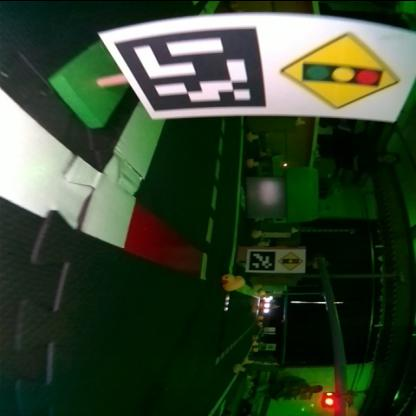Duckie: (224, 272, 246, 290), (252, 228, 264, 236), (249, 158, 259, 166), (249, 132, 258, 140), (234, 362, 245, 368), (254, 304, 262, 309), (252, 335, 259, 339)
Duckiebot: (261, 297, 273, 312)
QR code: (114, 24, 266, 109), (250, 247, 272, 270)
Signal sign: (276, 28, 406, 110), (280, 249, 305, 270)
Traffic light: (324, 390, 354, 406)
